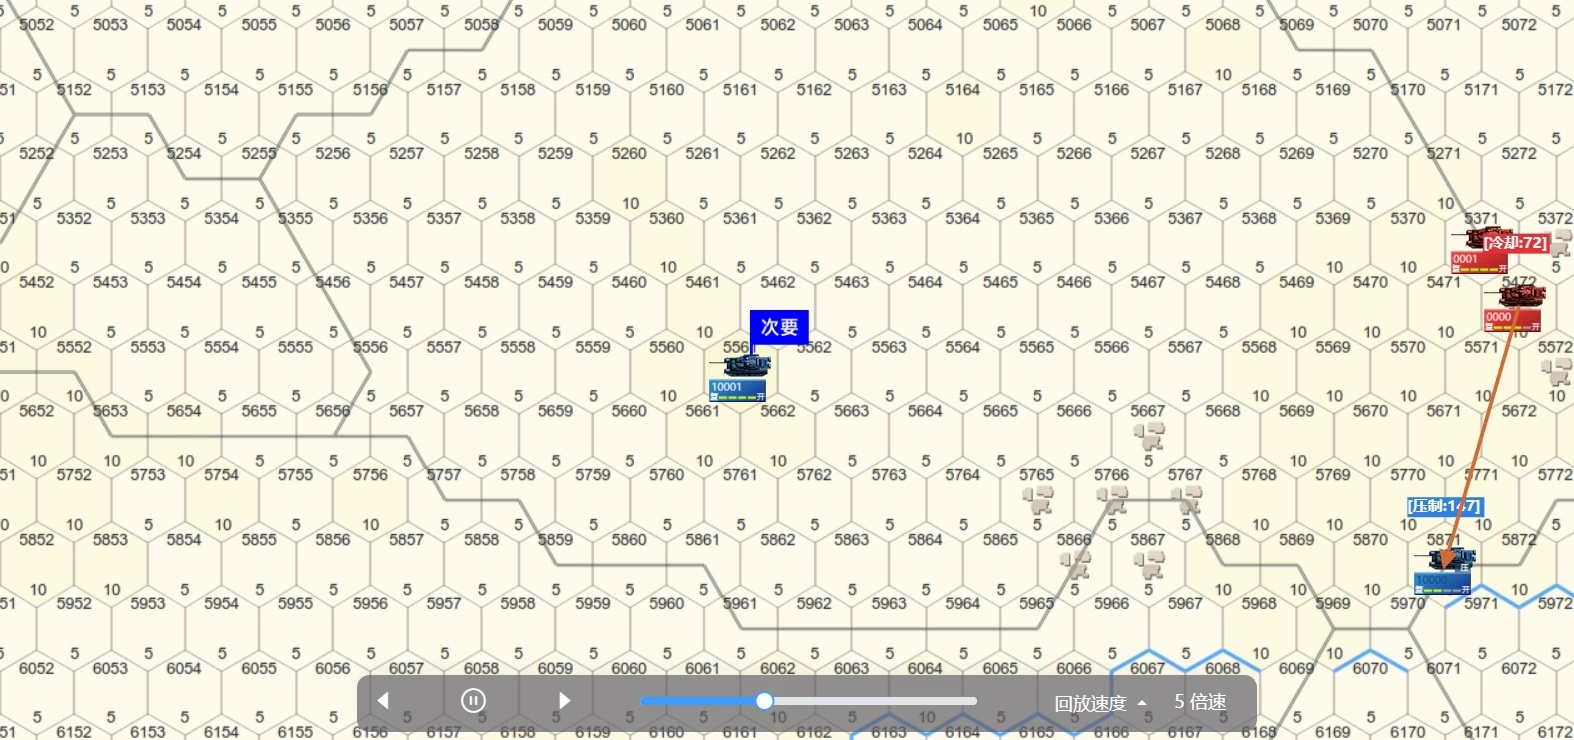blue_tank: (1417, 545, 1481, 599), (712, 352, 774, 401)
red_tank: (1477, 281, 1548, 333), (1452, 226, 1513, 268)
